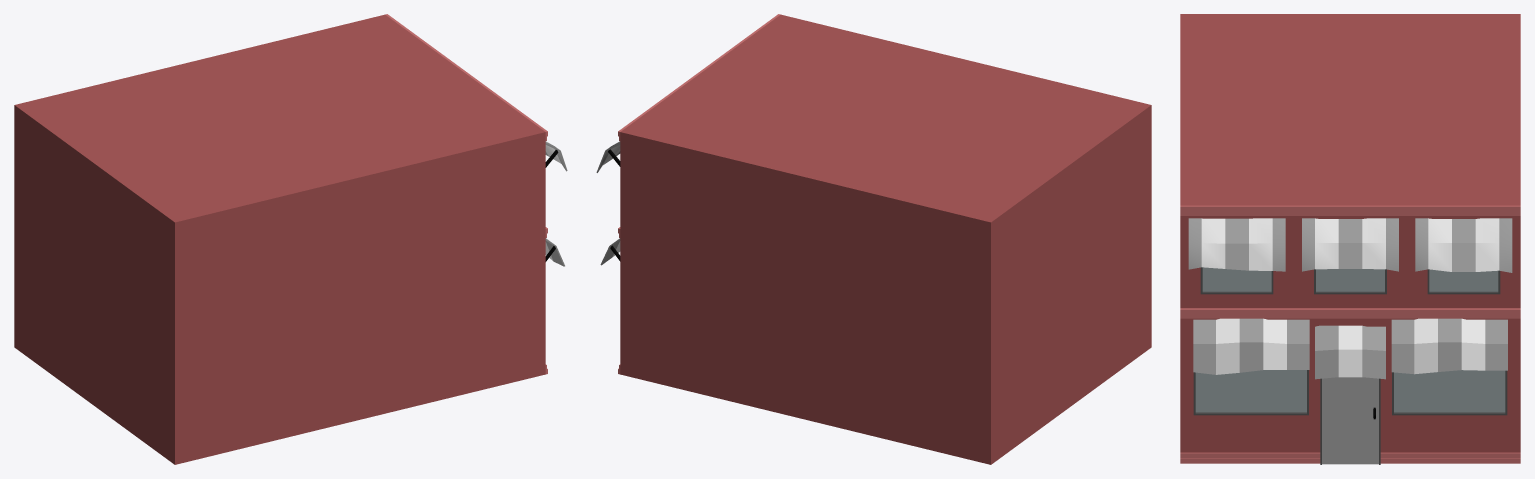
Rendered from Building_6.fbx.
The picture shows the model from 3 angles, left to right: view 1: azimuth 30°, elevation 25°; view 2: azimuth 150°, elevation 25°; view 3: azimuth 270°, elevation 25°; orthographic projection. The views are drawn at different scales.
Visible parts, largest first — view 1: pCube36; view 2: pCube36; view 3: pCube36.
Boxes of the visible parts, box(x1,y1,x2,y2) form: pCube36: box(14, 14, 567, 464); pCube36: box(596, 14, 1151, 464); pCube36: box(1180, 14, 1520, 464).
Bounding box in the file's own units: 10.84 × 6.25 × 7.5.
